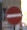No entry: (5, 5, 22, 25)
